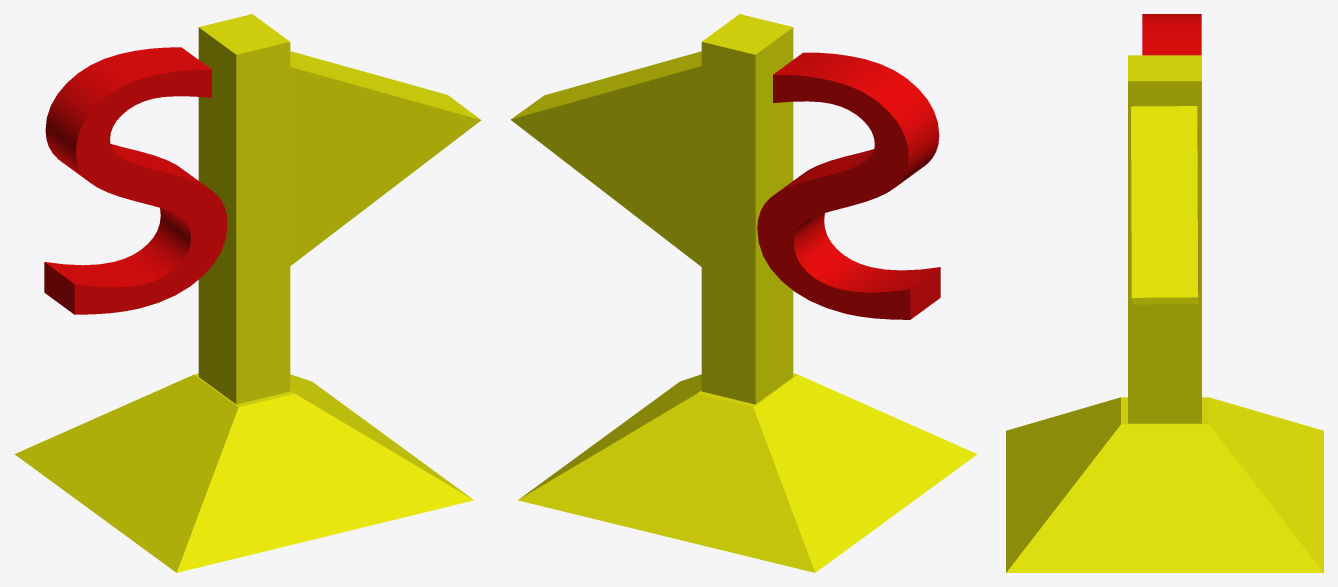
File: SpecialFlagModel.fbx
3 views of the same model, side by side, from view 1: azimuth 30°, elevation 25°; view 2: azimuth 150°, elevation 25°; view 3: azimuth 270°, elevation 25° (orthographic). The views are drawn at different scales.
Visible parts, largest first — view 1: pCube1, pCube2, typeMesh1, pCylinder1; view 2: pCube1, pCube2, typeMesh1, pCylinder1; view 3: pCube1, pCube2, pCylinder1, typeMesh1.
Part boxes in pixels (x1=…): pCube1: x1=14, y1=373, x2=473, y2=572; pCube2: x1=198, y1=14, x2=290, y2=404; typeMesh1: x1=44, y1=47, x2=227, y2=314; pCylinder1: x1=290, y1=51, x2=481, y2=265; pCube1: x1=518, y1=373, x2=977, y2=572; pCube2: x1=701, y1=14, x2=793, y2=404; typeMesh1: x1=757, y1=52, x2=940, y2=319; pCylinder1: x1=510, y1=51, x2=701, y2=266; pCube1: x1=1006, y1=397, x2=1323, y2=572; pCube2: x1=1128, y1=55, x2=1201, y2=423; pCylinder1: x1=1131, y1=106, x2=1198, y2=304; typeMesh1: x1=1142, y1=14, x2=1201, y2=55.
Bounding box in the file's own units: 0.9543 × 1.01 × 0.6676.
